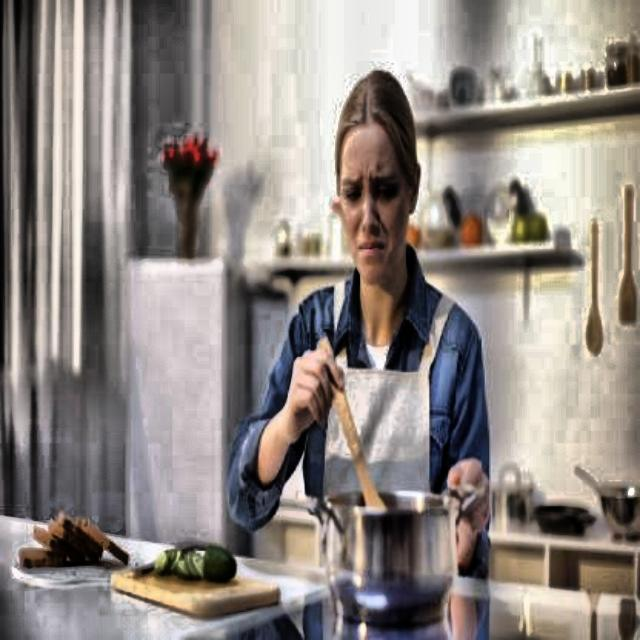sad: (330, 53, 430, 289)
